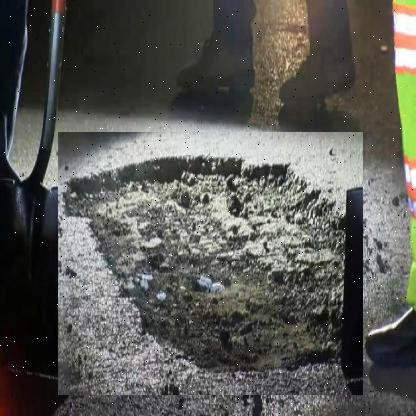pothole: (58, 132, 364, 396)
